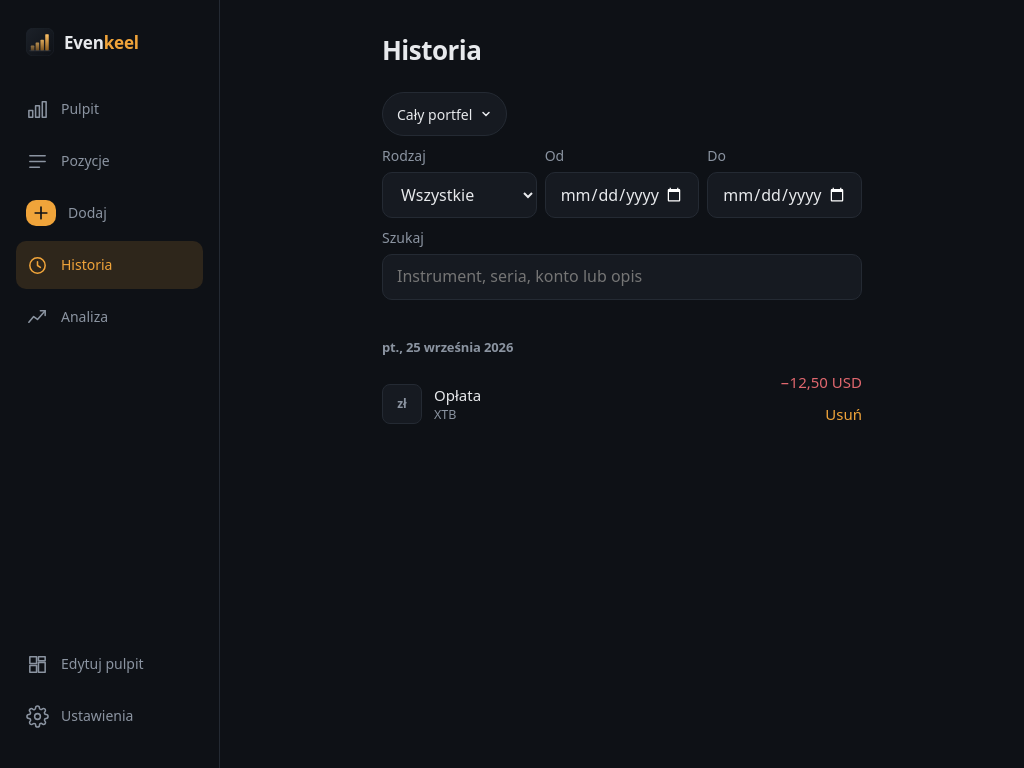
Test: history › shows a foreign currency code, not zł, in the row and the confirmation
Click the button "Usuń". click: (844, 415)
box: [825,393,862,437]
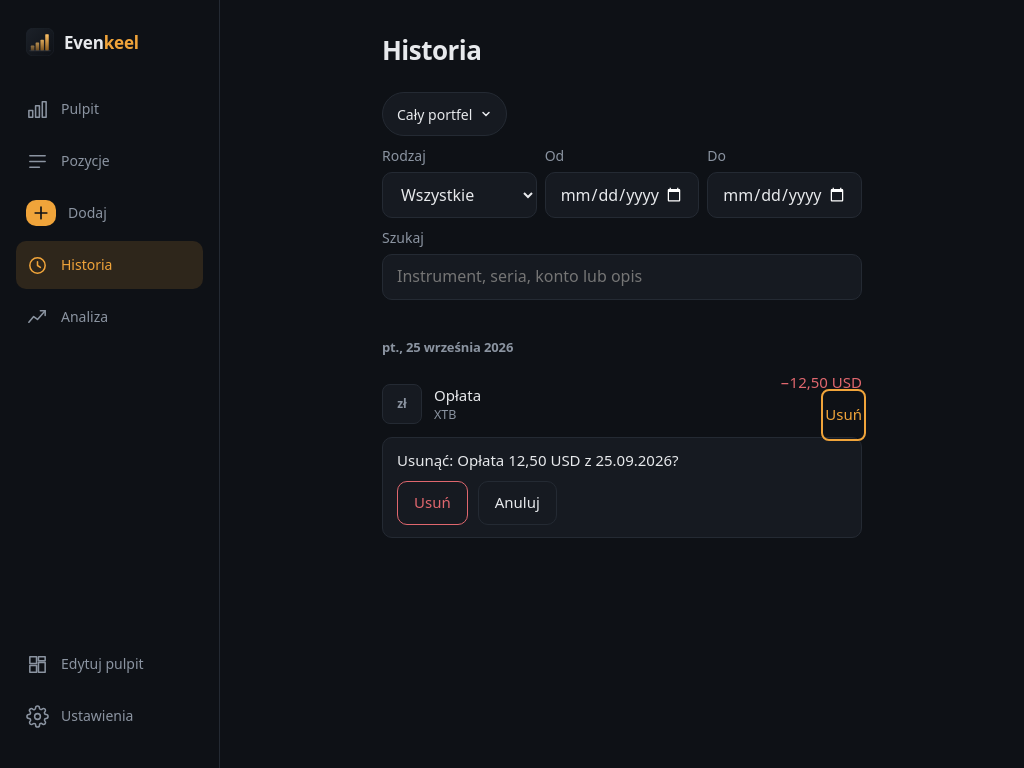
Expected: the element named "Potwierdzenie" does not show "zł", [382,437,862,538]
Expected: the element named "Potwierdzenie" shows "12,50 USD", [397,450,679,470]
